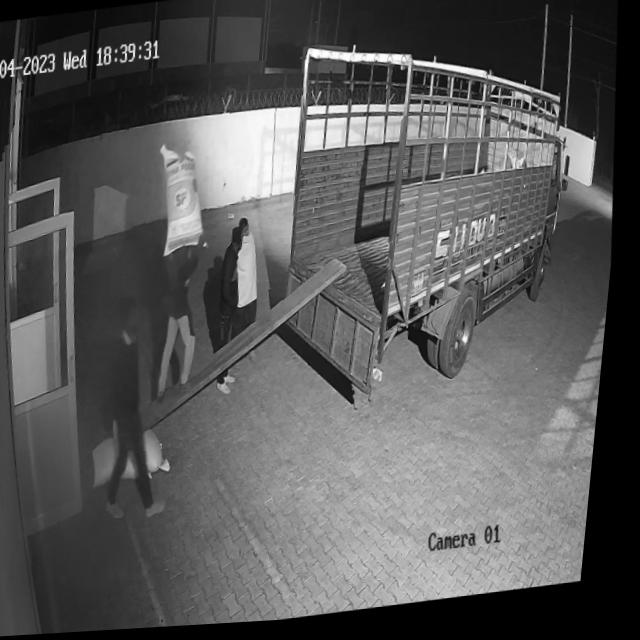sack: (154, 139, 215, 260), (97, 434, 151, 486), (146, 427, 183, 478)
